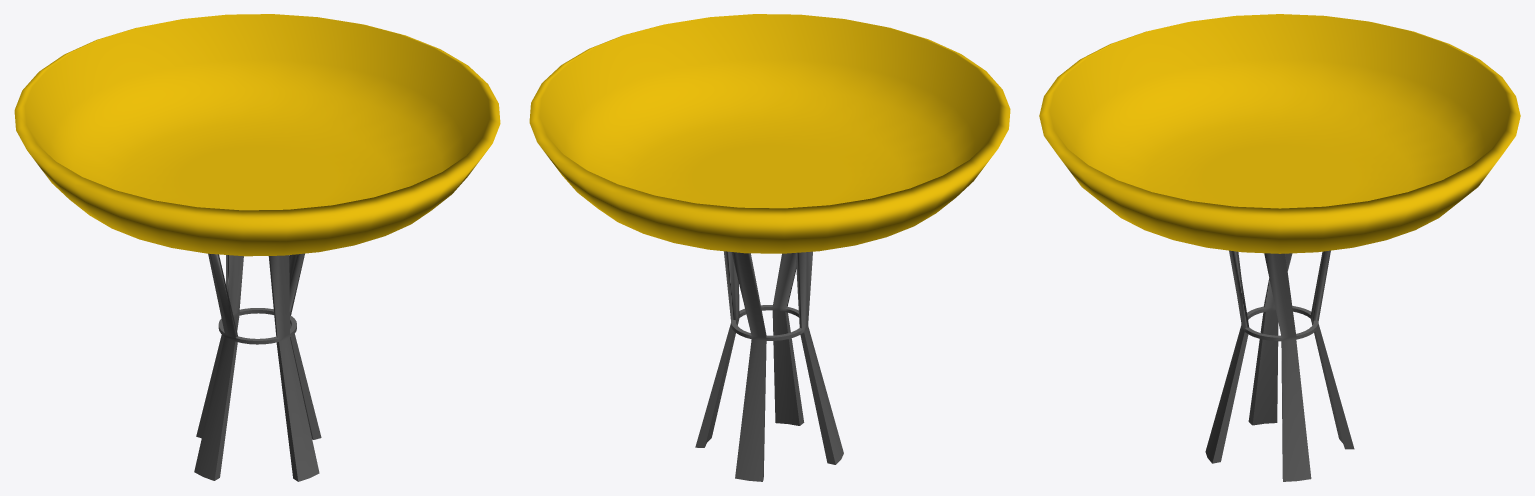
Rendered from fire.fbx.
3 views of the same model, side by side, from view 1: azimuth 30°, elevation 25°; view 2: azimuth 150°, elevation 25°; view 3: azimuth 270°, elevation 25° (orthographic).
Visible parts, largest first — view 1: PratoBronze_PiraFogo_0; view 2: PratoBronze_PiraFogo_0; view 3: PratoBronze_PiraFogo_0.
Part boxes in pixels (x1,y1,x2,y2): PratoBronze_PiraFogo_0: [14, 14, 500, 481]; PratoBronze_PiraFogo_0: [529, 14, 1010, 481]; PratoBronze_PiraFogo_0: [1039, 14, 1520, 481].
Size of the model in its own units: 8023 by 6234 by 8023.
